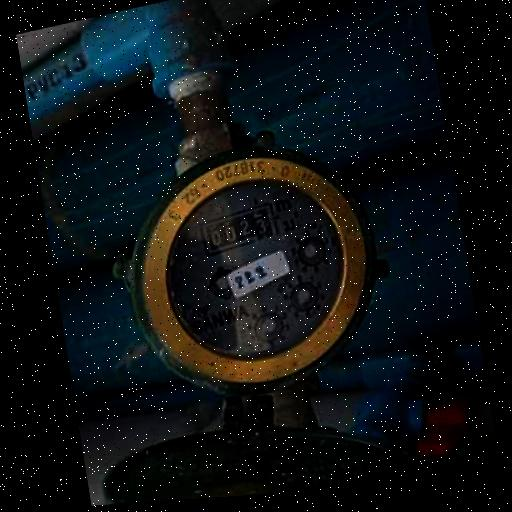0: (220, 217, 242, 246), (204, 222, 225, 251)
2: (234, 211, 257, 241)
3: (250, 206, 274, 241)
border_water_meter_number: (197, 199, 280, 258)
